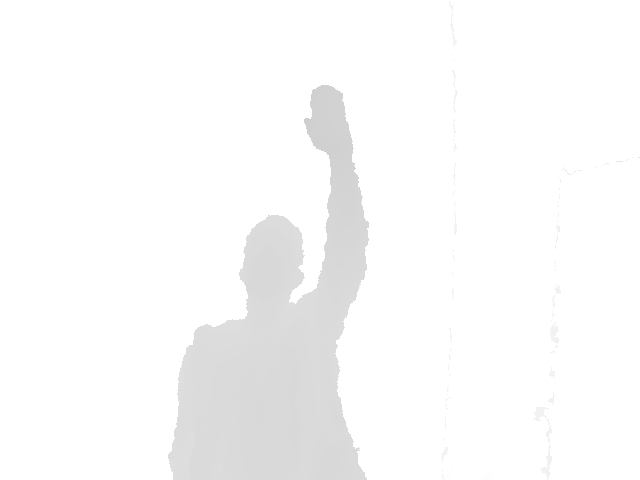hand: (302, 84, 355, 160)
head: (237, 214, 305, 306)
person: (166, 84, 372, 479)
